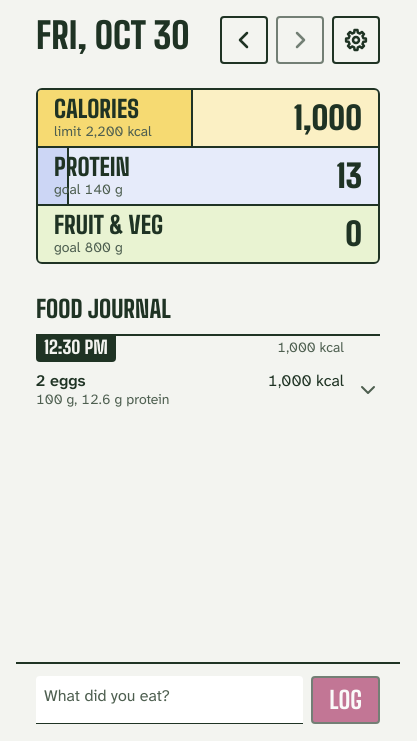
Test: Targets on Today › uses a target saved in Settings as soon as Today is shown again, without refetching
Click the link named "Settings".
click(356, 40)  # box [332,16,380,64]
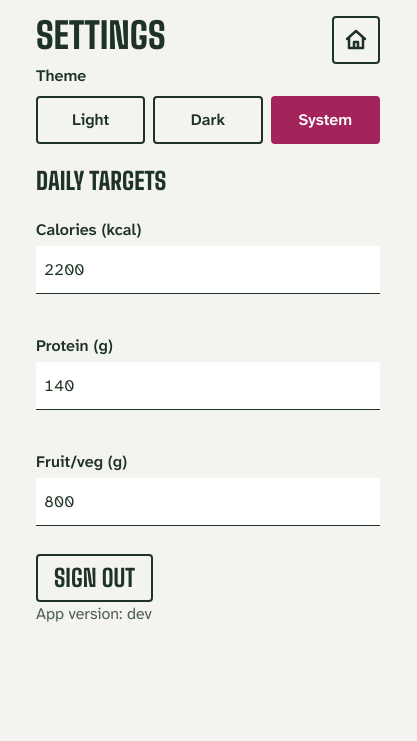
Replace the text in the field labelled "Calories (kcal)" with "1500" at (208, 270), box [36,246,380,294]
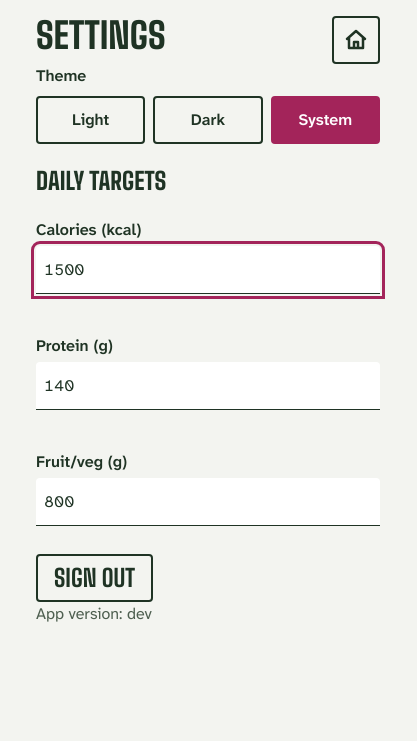
Press Tab
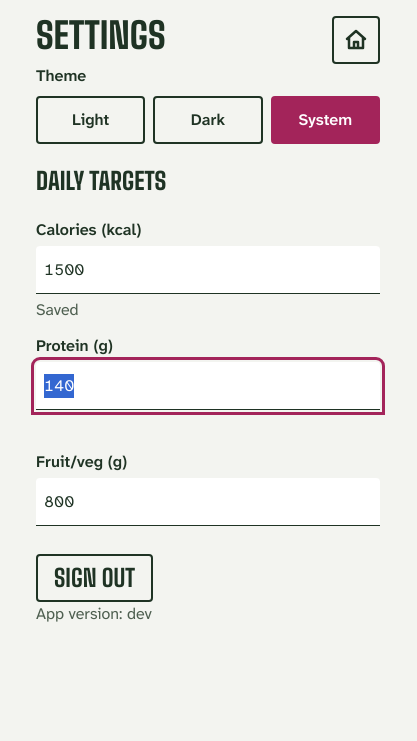
Click the link named "Home".
click(356, 40)  # box [332,16,380,64]
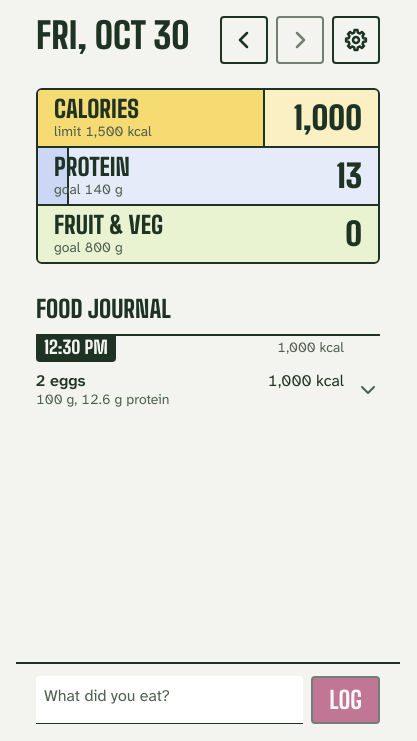
Now the text "limit 1,500 kcal" is shown, box [54,122,152,140]
